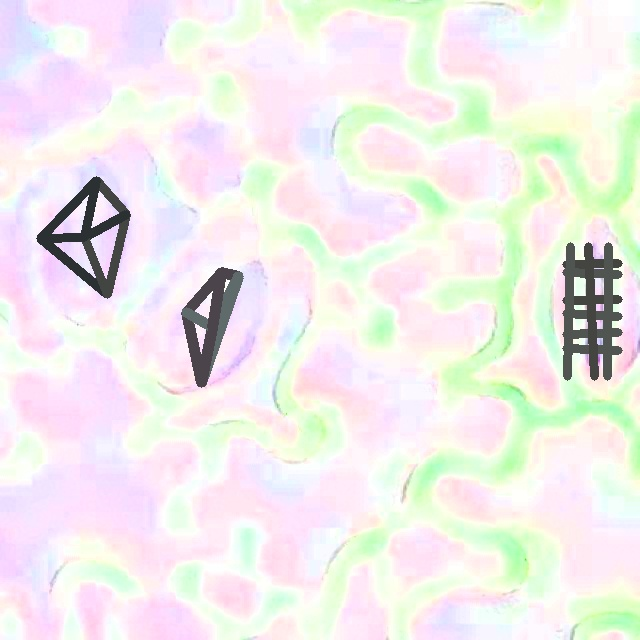open: (37, 177, 130, 297), (563, 243, 622, 380), (181, 267, 242, 387)
